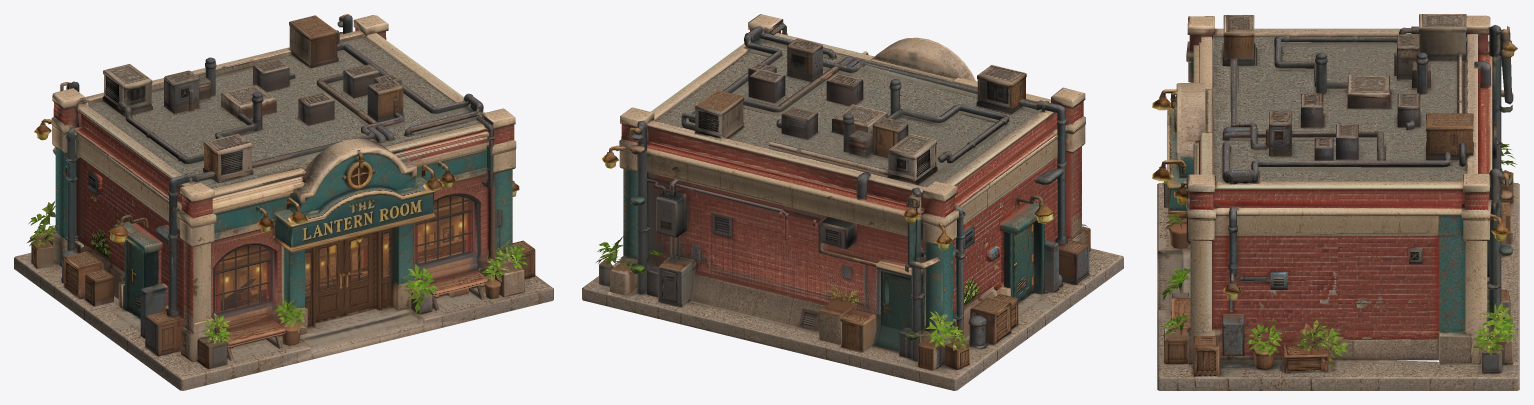
The model's file is lantern-room.glb.
3 views of the same model, side by side, from view 1: azimuth 30°, elevation 25°; view 2: azimuth 150°, elevation 25°; view 3: azimuth 270°, elevation 25° (orthographic). The views are drawn at different scales.
Visible parts, largest first — view 1: tripo_node_a905818c-751d-4f77-9f7a-2026cf3ed738; view 2: tripo_node_a905818c-751d-4f77-9f7a-2026cf3ed738; view 3: tripo_node_a905818c-751d-4f77-9f7a-2026cf3ed738.
Boxes of the visible parts, x1,y1,x2,y2 form: tripo_node_a905818c-751d-4f77-9f7a-2026cf3ed738: (14,14,553,390); tripo_node_a905818c-751d-4f77-9f7a-2026cf3ed738: (582,14,1123,390); tripo_node_a905818c-751d-4f77-9f7a-2026cf3ed738: (1152,14,1519,390).
Bounding box in the file's own units: 0.9995 × 0.5259 × 0.7915.
1 material, 1 textured.
